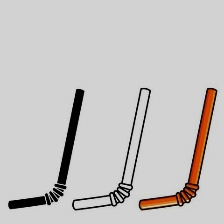drinking_straw: (66, 84, 153, 214), (135, 84, 221, 214), (4, 85, 88, 213)
